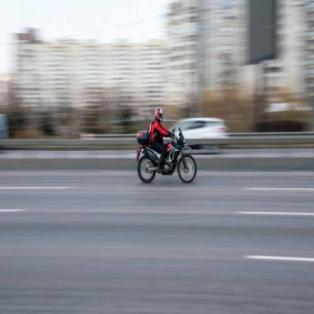Motocicleta: (133, 123, 198, 191)
